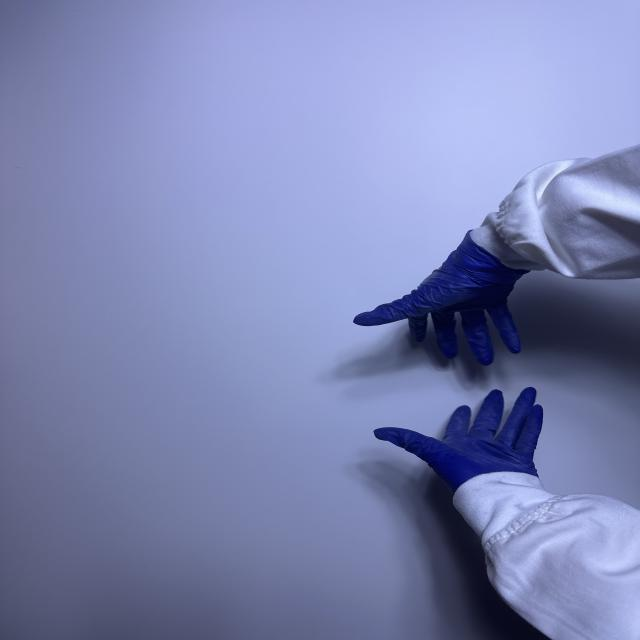gloves_contaminated: (354, 232, 528, 365), (374, 387, 544, 492)
